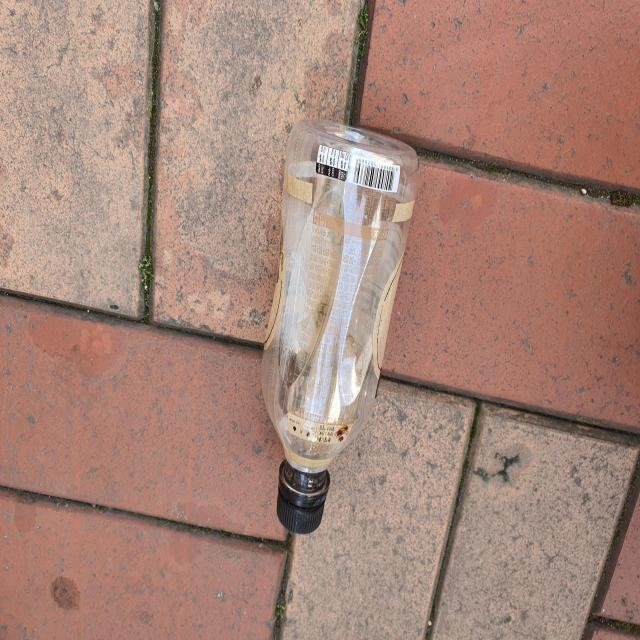plastic: (261, 119, 420, 535)
